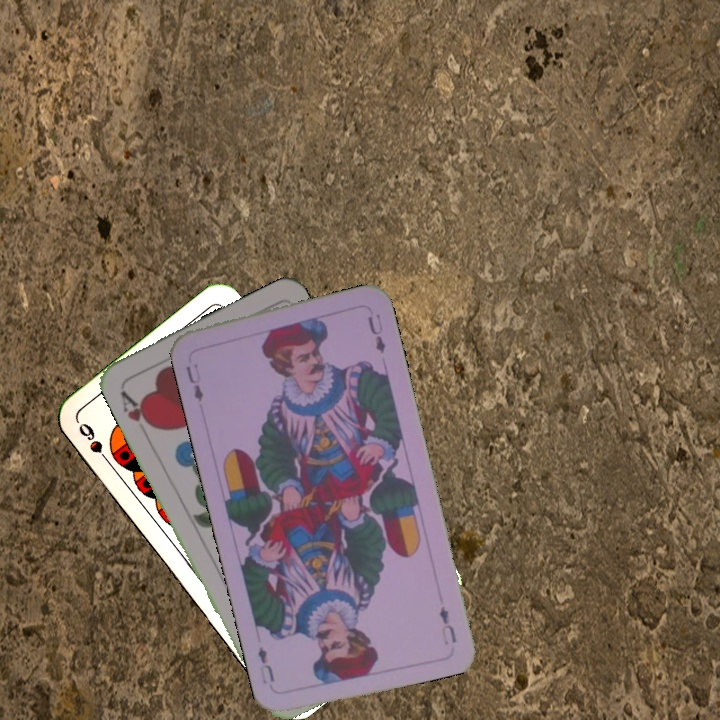EU: (435, 602, 459, 648), (181, 360, 206, 404)
HA: (116, 386, 158, 432)
S9: (74, 418, 116, 470)
